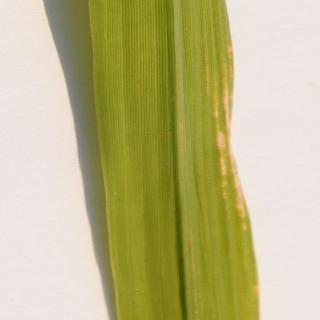Hawar-Daun: (197, 53, 252, 249)
